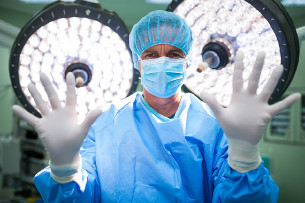face_mask: (138, 36, 187, 97)
